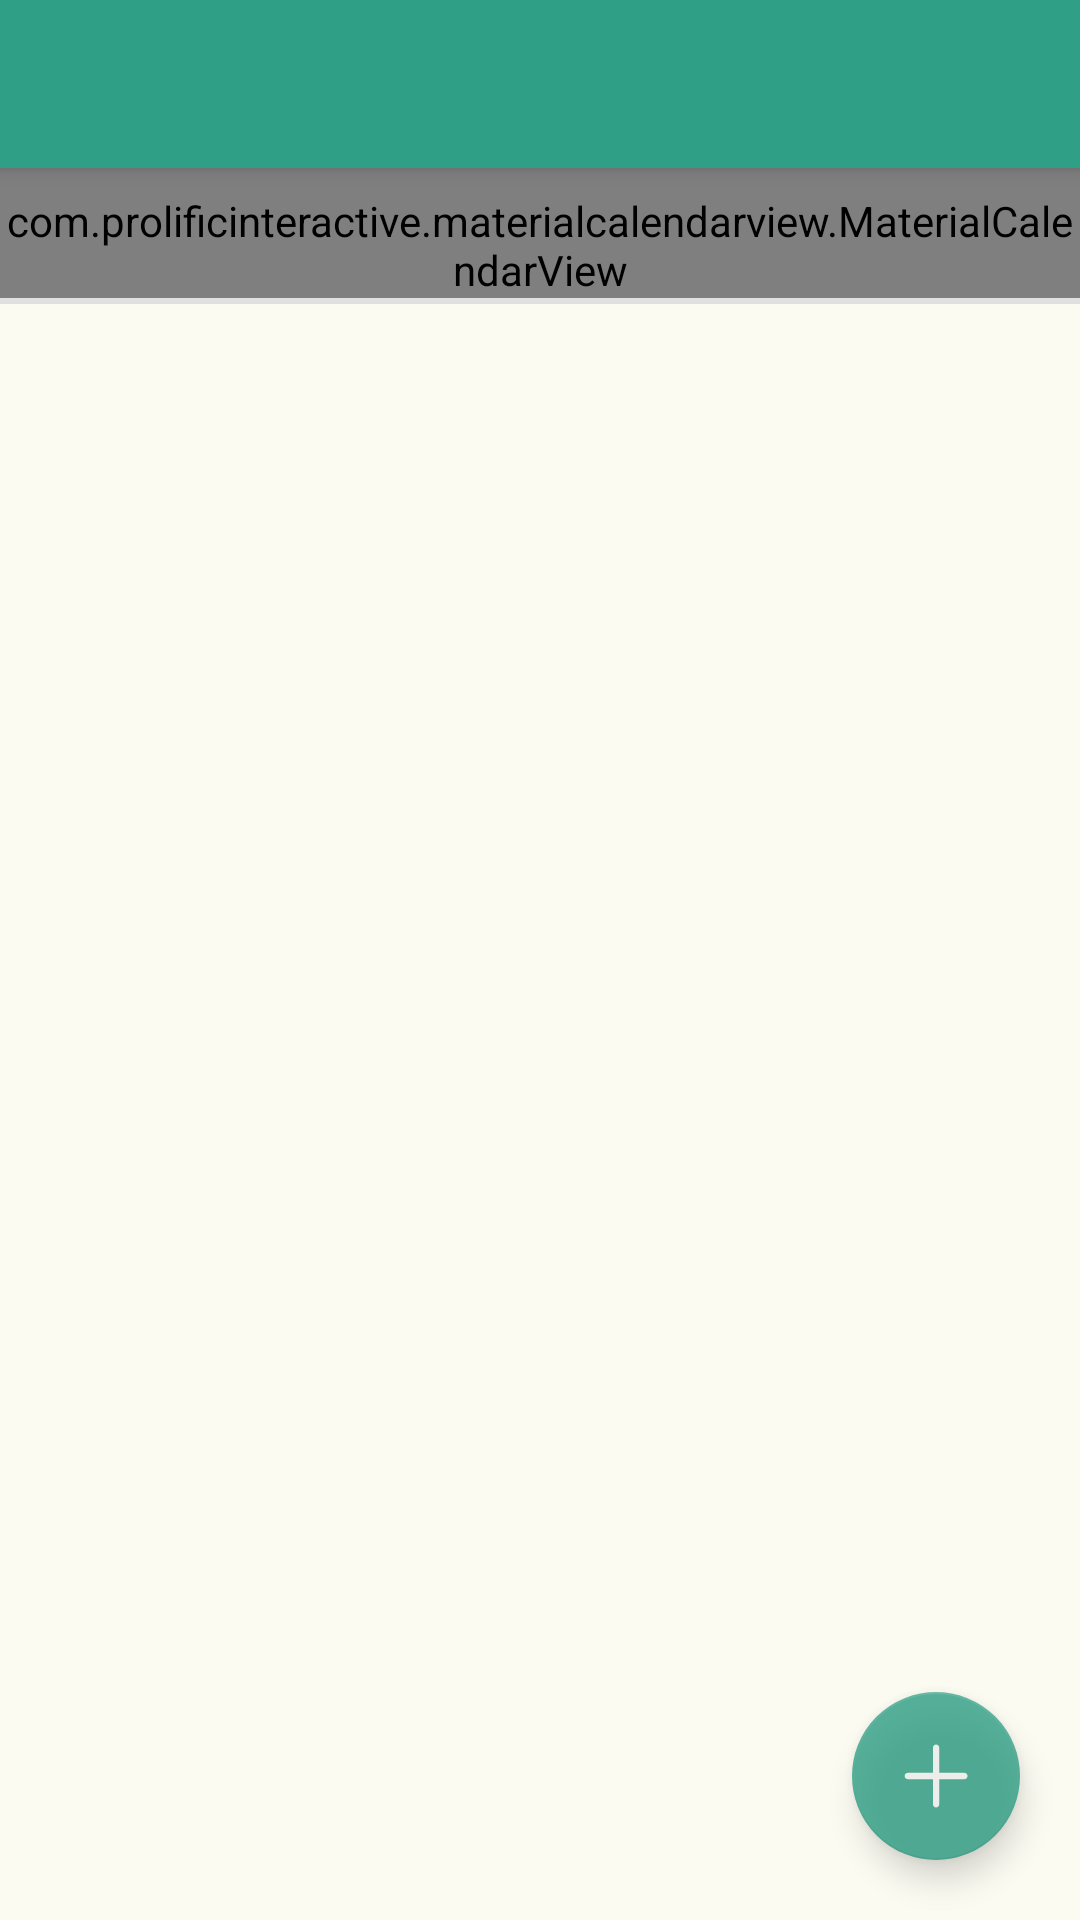

Screen size 1080x1920. Icon name, then its center in pixels as (x=x, y=y):
plus: (x=936, y=1776)
